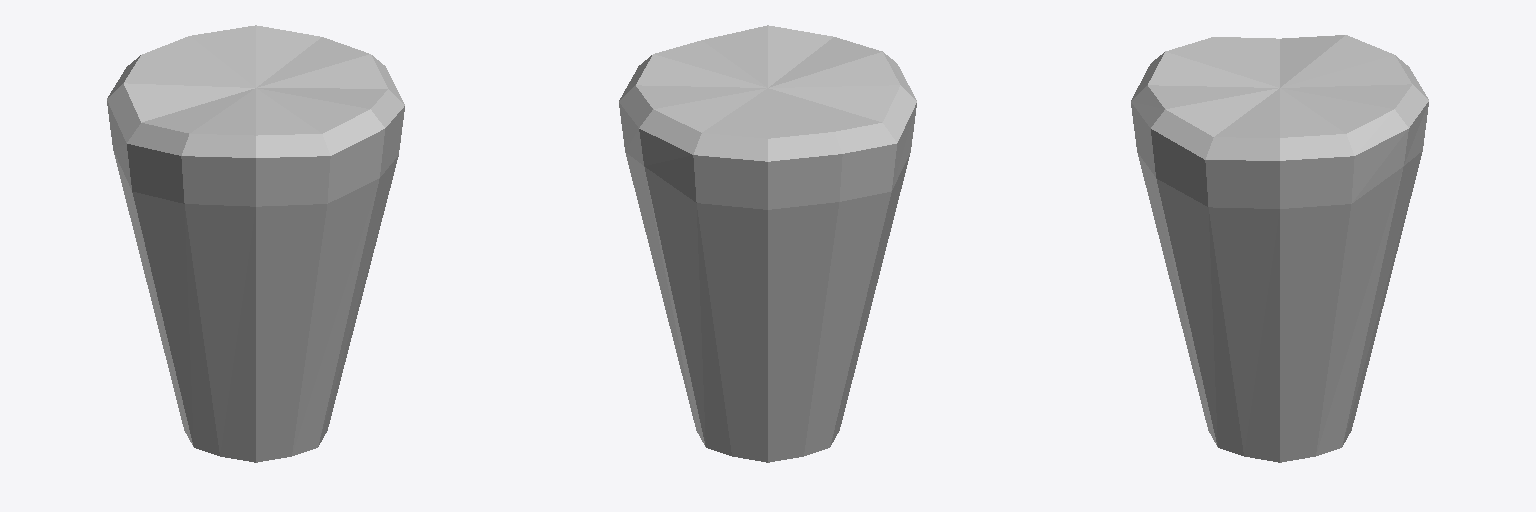
File: stone_pillar.obj
The picture shows the model from 3 angles: view 1: azimuth 30°, elevation 25°; view 2: azimuth 150°, elevation 25°; view 3: azimuth 270°, elevation 25°; orthographic projection.
Visible parts, largest first — view 1: Cylinder; view 2: Cylinder; view 3: Cylinder.
Part boxes in pixels (x1,y1,x2,y2): Cylinder: (107, 25, 404, 462); Cylinder: (619, 25, 916, 462); Cylinder: (1131, 35, 1428, 462).
Bounding box in the file's own units: 5.01 × 6.53 × 5.01.